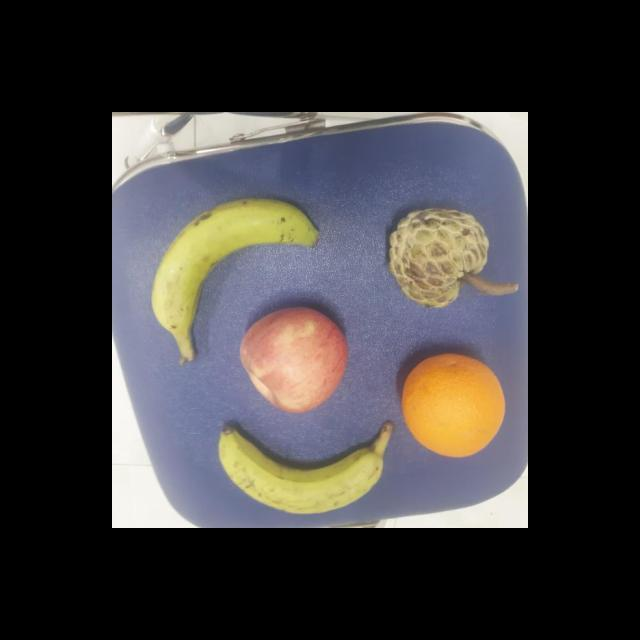Sakya fruit: (382, 204, 490, 308)
apple: (239, 304, 350, 416)
banana: (152, 196, 322, 361), (212, 423, 394, 515)
orange: (394, 352, 511, 458)
